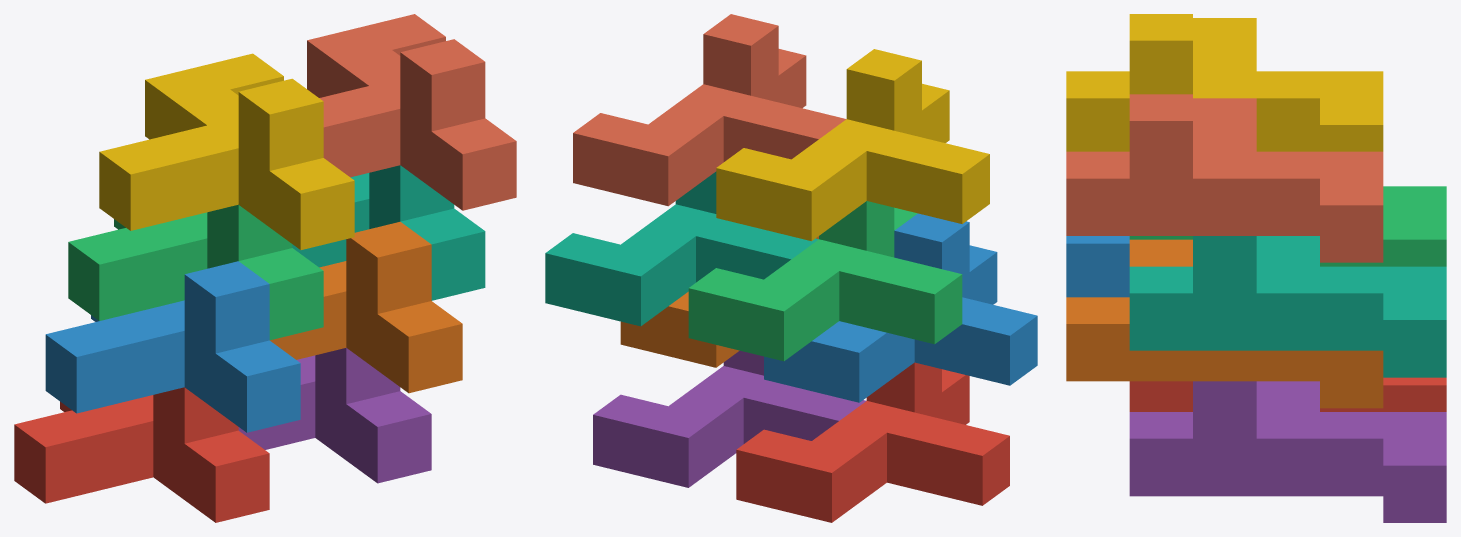
Rendered from tiling.obj.
The picture shows the model from 3 angles, left to right: view 1: azimuth 30°, elevation 25°; view 2: azimuth 150°, elevation 25°; view 3: azimuth 270°, elevation 25°; orthographic projection. The views are drawn at different scales.
Parts seen in each view (by area): view 1: copy_1_domain_4, copy_1_domain_8, copy_1_domain_2, copy_1_domain_1, copy_1_domain_3, copy_1_domain_6, copy_1_domain_5, copy_1_domain_7; view 2: copy_1_domain_4, copy_1_domain_1, copy_1_domain_8, copy_1_domain_3, copy_1_domain_2, copy_1_domain_7, copy_1_domain_5, copy_1_domain_6; view 3: copy_1_domain_8, copy_1_domain_5, copy_1_domain_7, copy_1_domain_4, copy_1_domain_6, copy_1_domain_3, copy_1_domain_1, copy_1_domain_2.
Part boxes in pixels (x1,y1,x2,y2): copy_1_domain_4: [99, 53, 354, 249]; copy_1_domain_8: [307, 14, 516, 210]; copy_1_domain_2: [45, 261, 300, 432]; copy_1_domain_1: [14, 387, 269, 522]; copy_1_domain_3: [68, 204, 323, 340]; copy_1_domain_6: [270, 221, 462, 393]; copy_1_domain_5: [238, 348, 431, 483]; copy_1_domain_7: [292, 165, 485, 300]; copy_1_domain_4: [716, 49, 989, 241]; copy_1_domain_1: [736, 362, 1009, 522]; copy_1_domain_8: [573, 14, 846, 206]; copy_1_domain_3: [688, 201, 962, 361]; copy_1_domain_2: [764, 213, 1037, 402]; copy_1_domain_7: [545, 171, 818, 326]; copy_1_domain_5: [593, 350, 866, 487]; copy_1_domain_6: [620, 236, 818, 367]; copy_1_domain_8: [1066, 94, 1383, 262]; copy_1_domain_5: [1129, 381, 1446, 522]; copy_1_domain_7: [1129, 236, 1446, 377]; copy_1_domain_4: [1066, 14, 1383, 151]; copy_1_domain_6: [1066, 239, 1383, 408]; copy_1_domain_3: [1129, 186, 1446, 266]; copy_1_domain_1: [1129, 377, 1446, 411]; copy_1_domain_2: [1066, 236, 1129, 297].
Size of the model in its own units: 8 by 7 by 6.
